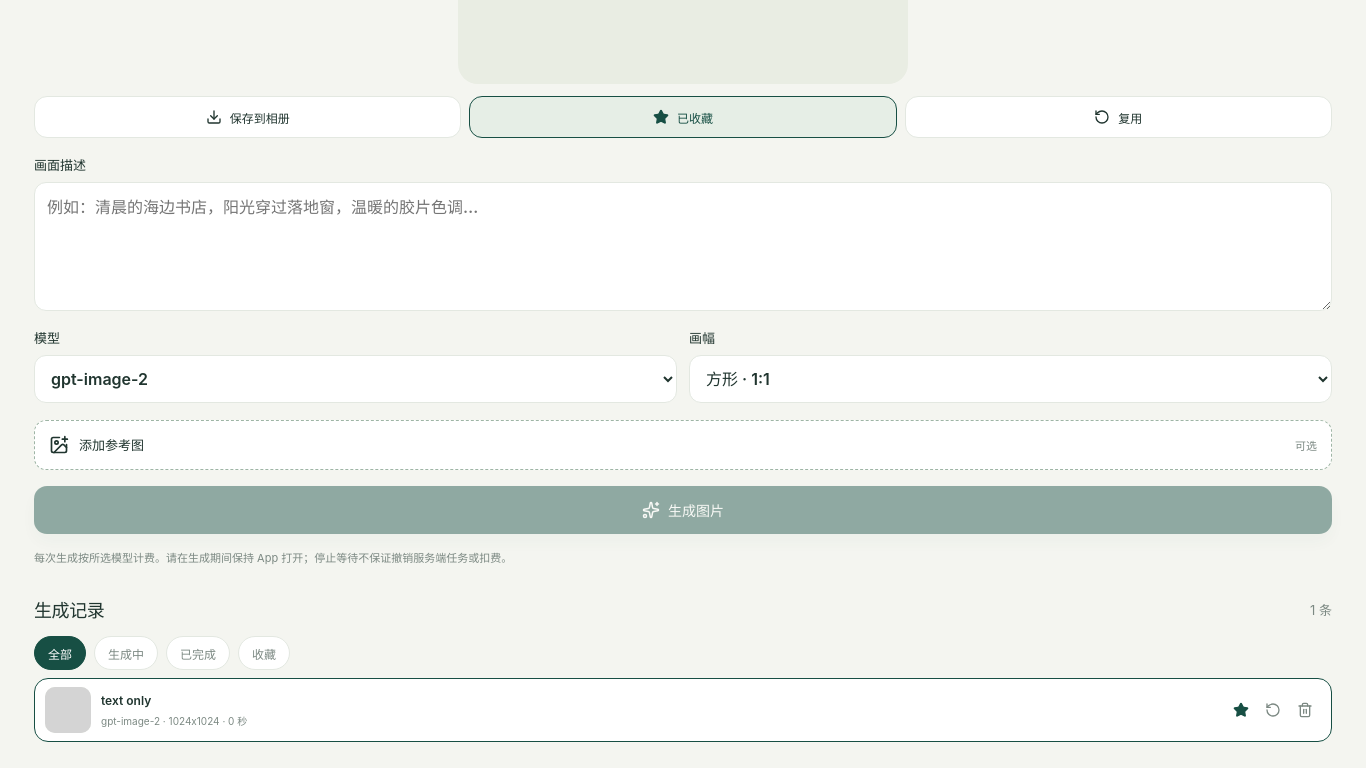
image safety › does not hide a saved record when disk deletion fails
The width and height of the screenshot is (1366, 768).
(page scrolled)
Click the button named "删除记录" at (1305, 710), box [1289,688,1321,732]
(page scrolled)
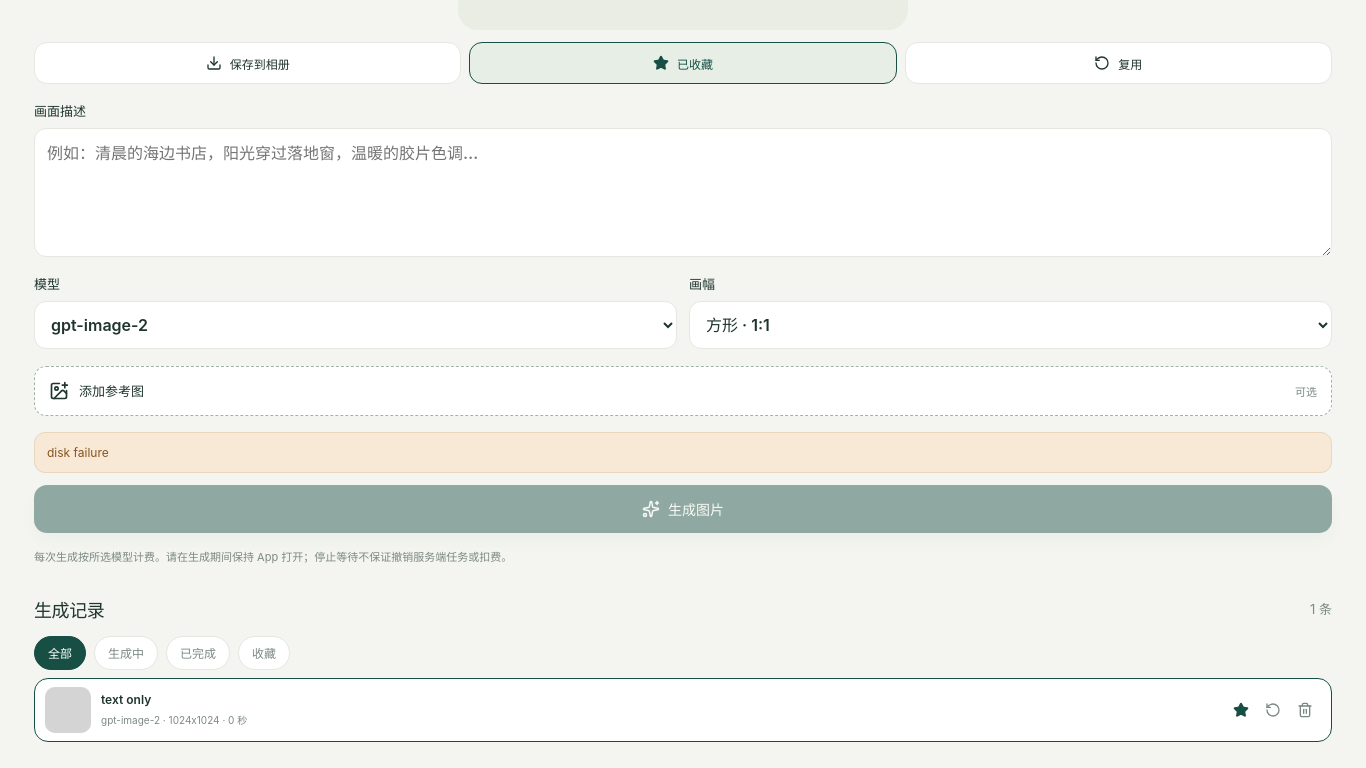
Check: the button with aria-label "查看记录：text only" is shown, box [45,687,1221,733]
Check: the text "disk failure" is shown, box [34,432,1332,473]
